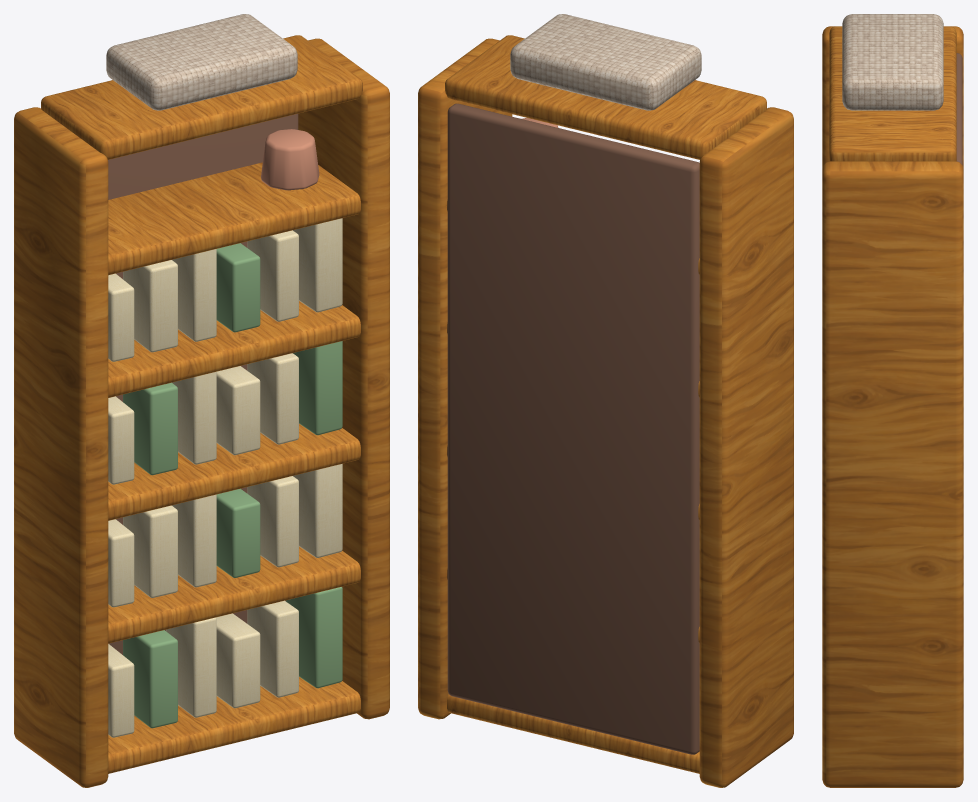
The model's file is bookshelf.glb.
3 views of the same model, side by side, from view 1: azimuth 30°, elevation 25°; view 2: azimuth 150°, elevation 25°; view 3: azimuth 270°, elevation 25° (orthographic).
Visible parts, largest first — view 1: bookshelf; view 2: bookshelf; view 3: bookshelf.
Boxes of the visible parts, box(x1,y1,x2,y2) form: bookshelf: box(14, 14, 389, 787); bookshelf: box(418, 14, 793, 787); bookshelf: box(822, 14, 963, 787).
Size of the model in its own units: 0.872 by 1.83 by 0.35.
Materials: 8 (5 with a texture image).
